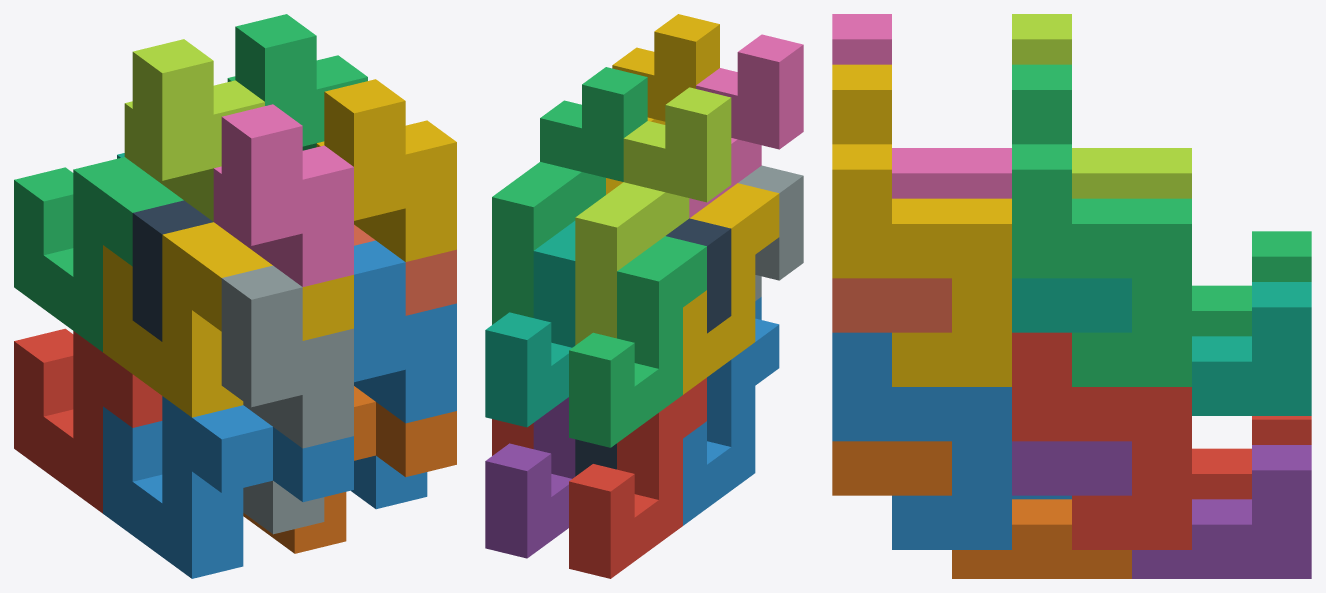
Rendered from tiling.obj.
The picture shows the model from 3 angles, left to right: view 1: azimuth 30°, elevation 25°; view 2: azimuth 150°, elevation 25°; view 3: azimuth 270°, elevation 25°; orthographic projection. The views are drawn at different scales.
Parts seen in each view (by area): view 1: copy_1_domain_2, copy_2_domain_2, copy_1_domain_4, copy_2_domain_4, copy_1_domain_3, copy_2_domain_8, copy_2_domain_6, copy_1_domain_1, copy_2_domain_3, copy_2_domain_7, copy_1_domain_6, copy_2_domain_1 (+1 smaller); view 2: copy_2_domain_3, copy_2_domain_7, copy_1_domain_3, copy_1_domain_1, copy_1_domain_7, copy_1_domain_5, copy_1_domain_2, copy_1_domain_4, copy_2_domain_4, copy_2_domain_8, copy_2_domain_1, copy_2_domain_2 (+1 smaller); view 3: copy_2_domain_7, copy_2_domain_8, copy_2_domain_5, copy_2_domain_6, copy_1_domain_5, copy_1_domain_7, copy_1_domain_6, copy_2_domain_3, copy_2_domain_4, copy_1_domain_8, copy_1_domain_3, copy_1_domain_1.
Boxes of the visible parts, x1=… form: copy_1_domain_2: x1=103, y1=396, x2=353, y2=578; copy_2_domain_2: x1=221, y1=265, x2=353, y2=534; copy_1_domain_4: x1=103, y1=222, x2=353, y2=417; copy_2_domain_4: x1=213, y1=104, x2=353, y2=286; copy_1_domain_3: x1=14, y1=157, x2=183, y2=351; copy_2_domain_8: x1=316, y1=79, x2=456, y2=261; copy_2_domain_6: x1=351, y1=240, x2=456, y2=509; copy_1_domain_1: x1=14, y1=328, x2=162, y2=513; copy_2_domain_3: x1=124, y1=39, x2=264, y2=221; copy_2_domain_7: x1=227, y1=14, x2=367, y2=150; copy_1_domain_6: x1=243, y1=386, x2=456, y2=553; copy_2_domain_1: x1=132, y1=200, x2=213, y2=341; copy_2_domain_3: x1=575, y1=87, x2=731, y2=345; copy_2_domain_7: x1=492, y1=67, x2=647, y2=324; copy_1_domain_3: x1=569, y1=236, x2=706, y2=447; copy_1_domain_1: x1=569, y1=377, x2=706, y2=578; copy_1_domain_7: x1=485, y1=221, x2=575, y2=427; copy_1_domain_5: x1=485, y1=397, x2=575, y2=558; copy_1_domain_2: x1=683, y1=297, x2=779, y2=525; copy_1_domain_4: x1=683, y1=183, x2=779, y2=394; copy_2_domain_4: x1=689, y1=34, x2=803, y2=217; copy_2_domain_8: x1=606, y1=14, x2=719, y2=194; copy_2_domain_1: x1=575, y1=218, x2=731, y2=476; copy_2_domain_2: x1=738, y1=165, x2=803, y2=300; copy_2_domain_7: x1=1012, y1=64, x2=1191, y2=386; copy_2_domain_8: x1=832, y1=64, x2=1011, y2=386; copy_2_domain_5: x1=1012, y1=332, x2=1191, y2=549; copy_2_domain_6: x1=832, y1=332, x2=1011, y2=549; copy_1_domain_5: x1=1012, y1=441, x2=1311, y2=578; copy_1_domain_7: x1=1012, y1=278, x2=1311, y2=415; copy_1_domain_6: x1=832, y1=441, x2=1131, y2=578; copy_2_domain_3: x1=1012, y1=14, x2=1191, y2=198; copy_2_domain_4: x1=832, y1=14, x2=1011, y2=198; copy_1_domain_8: x1=832, y1=278, x2=951, y2=332; copy_1_domain_3: x1=1192, y1=231, x2=1311, y2=336; copy_1_domain_1: x1=1192, y1=416, x2=1311, y2=499.
Size of the model in its own units: 4 by 9 by 8.
